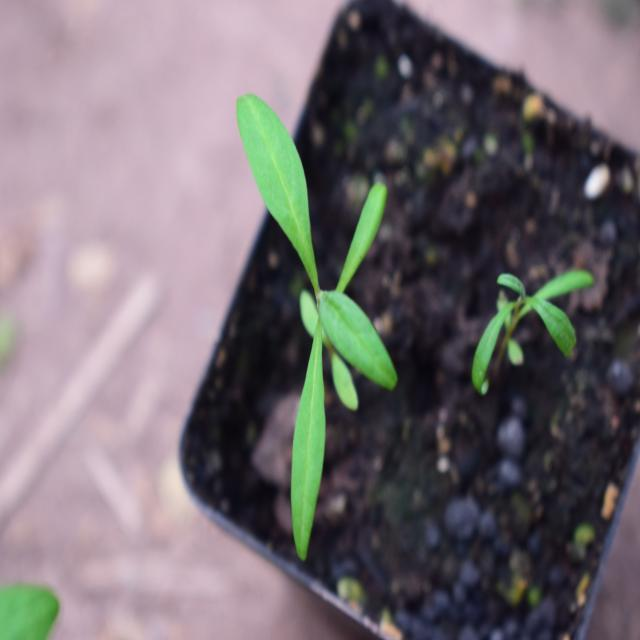white_smart_weed: (188, 80, 426, 554)
